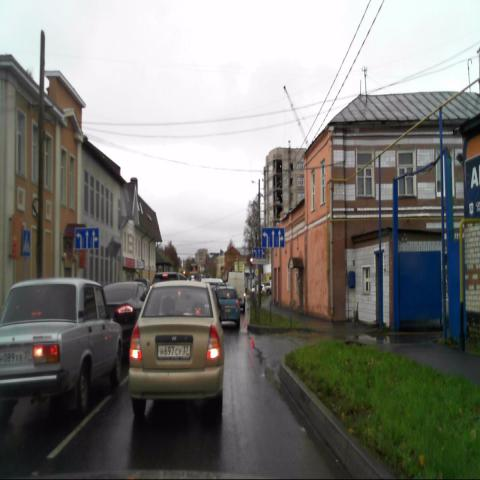5_15_1: (75, 227, 99, 248)
